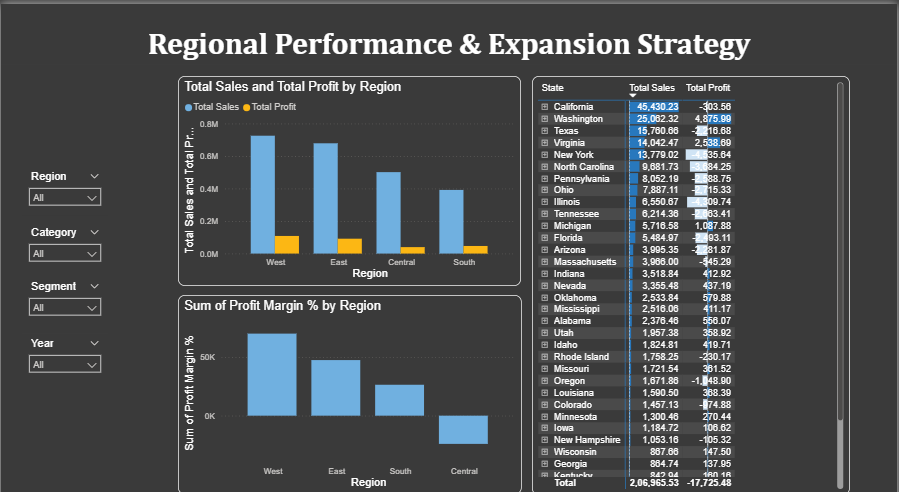

The page's visual inventory and layout, read from the dashboard file:
{"tool":"powerbi","page":{"name":"Page 3","canvas":[1280,720],"ordinal":2},"visuals":[{"type":"clusteredColumnChart","fields":{"Category":["superstore_clean.Region"],"Y":["superstore_clean.Total Sales","superstore_clean.Total Profit"]},"box":[252.5,103.3,490.2,300],"z":0},{"type":"columnChart","fields":{"Category":["superstore_clean.Region"],"Y":["Sum(superstore_clean.Profit Margin %)"]},"box":[252.2,416.4,491,285.1],"z":1000},{"type":"pivotTable","fields":{"Rows":["superstore_clean.State","superstore_clean.Profit Margin %"],"Values":["superstore_clean.Total Sales","superstore_clean.Total Profit"]},"box":[758.2,103,453.7,598.5],"z":2000},{"type":"textbox","box":[0,26.2,1280.3,60.7],"z":3000},{"type":"slicer","fields":{"Values":["superstore_clean.Region"]},"box":[30,232.9,122.9,68.6],"z":4000},{"type":"slicer","fields":{"Values":["superstore_clean.Category"]},"box":[30,312.9,122.9,65.7],"z":5000},{"type":"slicer","fields":{"Values":["superstore_clean.Segment"]},"box":[30,390,122.9,81.4],"z":6000},{"type":"slicer","fields":{"Values":["superstore_clean.Order Date.Variation.Date Hierarchy.Year"]},"box":[30,471.4,122.9,75.7],"z":7000}]}

Visuals, with their boxes in screenshot pixels (x1, y1, x2, y2), scaled from the page's 1280x720 canvas onto the 899x492 screenshot:
clusteredColumnChart - superstore_clean.Region x superstore_clean.Total Sales: region(177, 71, 522, 276)
columnChart - superstore_clean.Region x Sum(superstore_clean.Profit Margin %): region(177, 285, 522, 479)
pivotTable - superstore_clean.State x superstore_clean.Profit Margin %: region(533, 70, 851, 479)
textbox: region(0, 18, 898, 59)
slicer - superstore_clean.Region: region(21, 159, 107, 206)
slicer - superstore_clean.Category: region(21, 214, 107, 259)
slicer - superstore_clean.Segment: region(21, 266, 107, 322)
slicer - superstore_clean.Order Date.Variation.Date Hierarchy.Year: region(21, 322, 107, 374)
